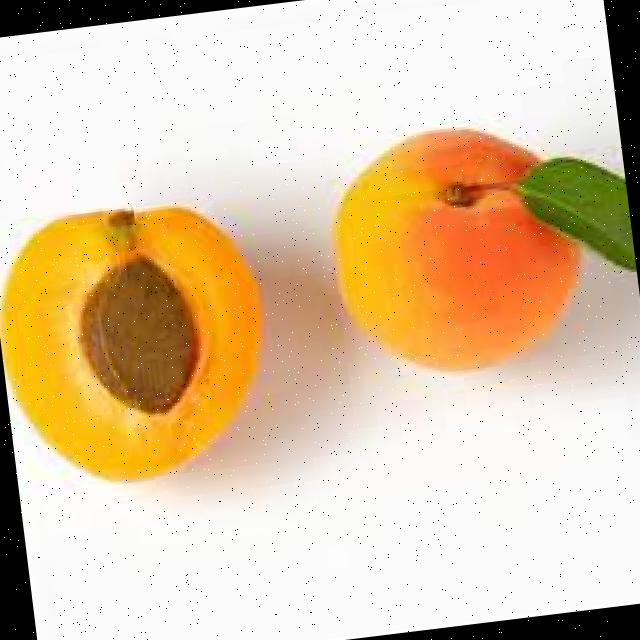Cekirdek: (80, 257, 196, 411)
Kayisi: (0, 207, 256, 477), (337, 130, 576, 366)
Yaprak: (519, 156, 633, 269)
